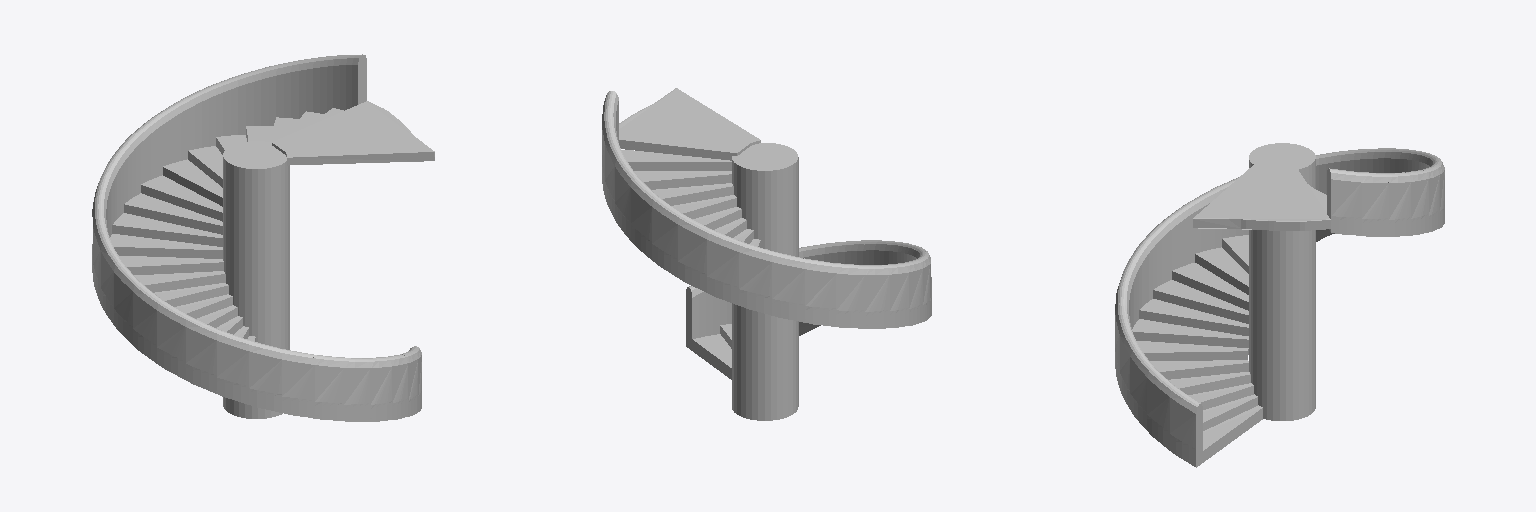
File: stairs.obj
3 views of the same model, side by side, from view 1: azimuth 30°, elevation 25°; view 2: azimuth 150°, elevation 25°; view 3: azimuth 270°, elevation 25° (orthographic).
Parts seen in each view (by area): view 1: 1.003, 1, 1.001; view 2: 1.003, 1, 1.001; view 3: 1.003, 1, 1.001.
Boxes of the visible parts, <box> form: 1.003: <box>92,54,421,421</box>; 1: <box>223,141,289,418</box>; 1.001: <box>272,101,434,165</box>; 1.003: <box>602,91,931,379</box>; 1: <box>732,143,798,420</box>; 1.001: <box>619,88,760,160</box>; 1.003: <box>1115,148,1444,467</box>; 1: <box>1249,143,1315,420</box>; 1.001: <box>1193,163,1330,230</box>.
Size of the model in its own units: 19.07 by 19.45 by 19.23.